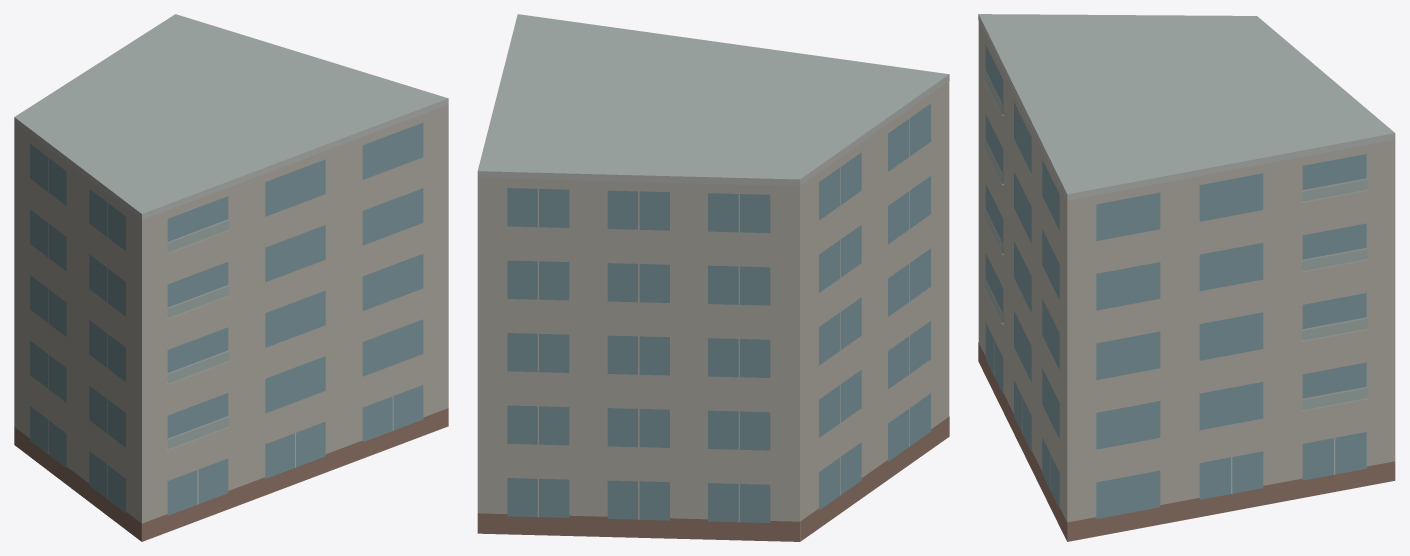
File: survey-upis-32660633.glb
The picture shows the model from 3 angles, left to right: view 1: azimuth 30°, elevation 25°; view 2: azimuth 150°, elevation 25°; view 3: azimuth 270°, elevation 25°; orthographic projection. The views are drawn at different scales.
Parts seen in each view (by area): view 1: survey-upis-32660633.tmp; view 2: survey-upis-32660633.tmp; view 3: survey-upis-32660633.tmp.
Part boxes in pixels (x1=…): survey-upis-32660633.tmp: x1=14, y1=14, x2=448, y2=541; survey-upis-32660633.tmp: x1=477, y1=14, x2=949, y2=541; survey-upis-32660633.tmp: x1=978, y1=14, x2=1395, y2=541.
Size of the model in its own units: 14.81 by 13.3 by 14.47.
